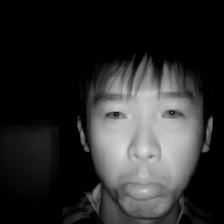sad: (72, 31, 219, 221)
